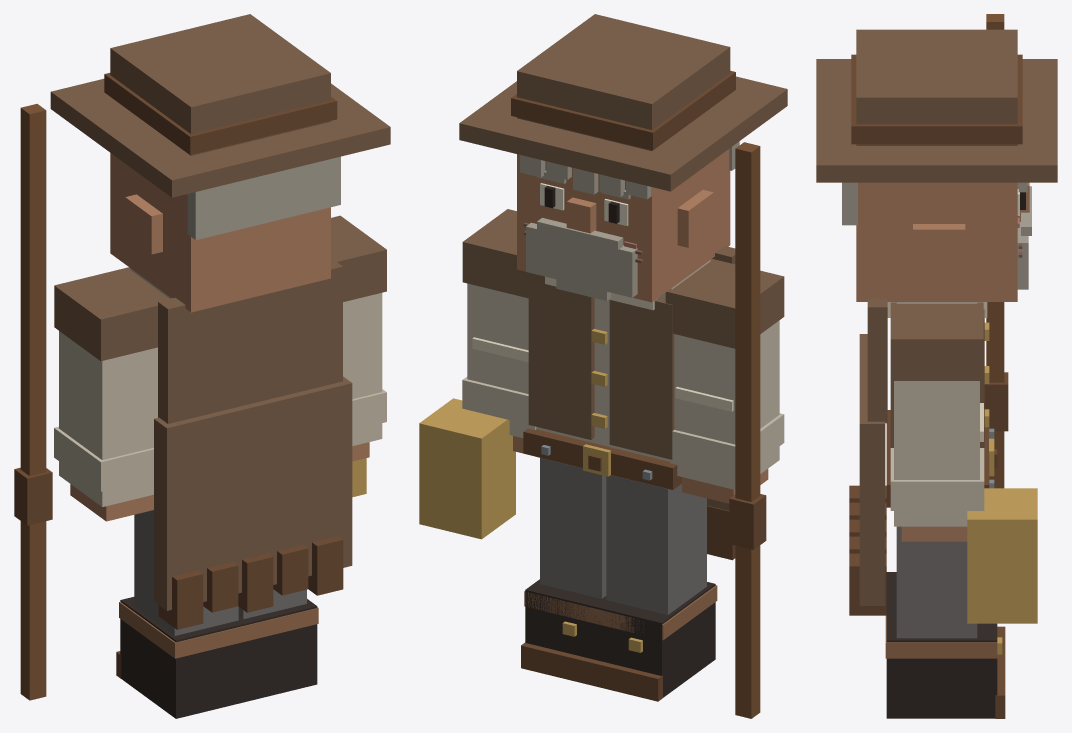
The model's file is elder_man.obj.
3 views of the same model, side by side, from view 1: azimuth 30°, elevation 25°; view 2: azimuth 150°, elevation 25°; view 3: azimuth 270°, elevation 25° (orthographic). The views are drawn at different scales.
Parts seen in each view (by area): view 1: head, equipment_back, right_arm, equipment_right, right_leg, left_arm, left_leg; view 2: head, body, right_leg, right_arm, equipment_right, left_leg, left_arm, equipment_left, equipment_back; view 3: head, left_arm, left_leg, equipment_back, equipment_left, equipment_right, body, right_leg.
Part boxes in pixels (bbox=[...]): head: bbox=[50, 14, 390, 312]; equipment_back: bbox=[154, 259, 352, 629]; right_arm: bbox=[54, 267, 169, 521]; equipment_right: bbox=[14, 104, 52, 700]; right_leg: bbox=[116, 510, 250, 718]; left_arm: bbox=[331, 215, 386, 461]; left_leg: bbox=[238, 589, 318, 701]; head: bbox=[459, 14, 787, 302]; body: bbox=[523, 260, 710, 489]; right_leg: bbox=[587, 475, 717, 701]; right_arm: bbox=[665, 259, 784, 503]; equipment_right: bbox=[729, 142, 766, 718]; left_leg: bbox=[521, 458, 606, 684]; left_arm: bbox=[462, 209, 536, 453]; equipment_left: bbox=[419, 398, 515, 539]; equipment_back: bbox=[707, 246, 735, 560]; head: bbox=[816, 29, 1057, 301]; left_arm: bbox=[890, 302, 984, 541]; left_leg: bbox=[885, 526, 1005, 718]; equipment_back: bbox=[849, 298, 887, 615]; equipment_left: bbox=[967, 488, 1037, 623]; equipment_right: bbox=[984, 14, 1008, 488]; body: bbox=[886, 302, 997, 507]; right_leg: bbox=[886, 572, 1005, 662].
Size of the model in its own units: 1.18 by 2.13 by 0.75.
